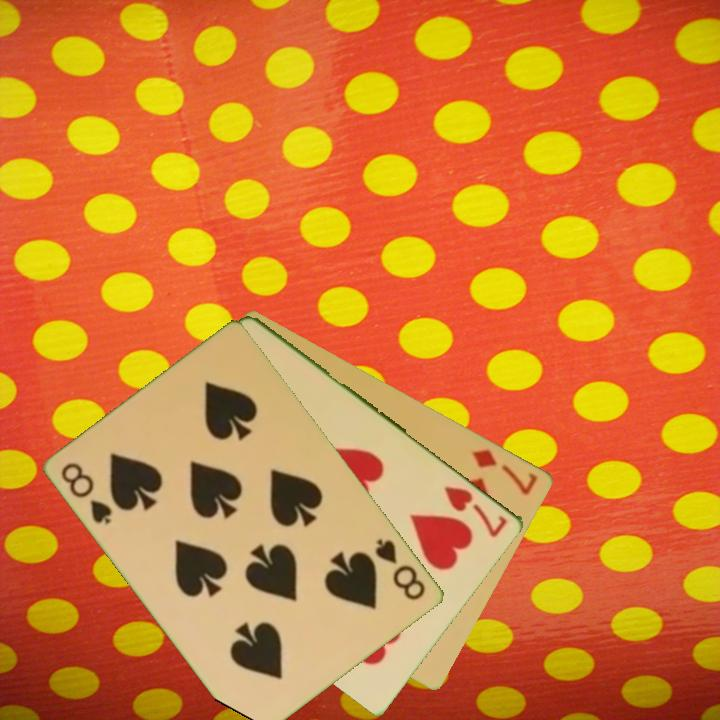7d: (468, 445, 541, 498)
7h: (441, 482, 511, 541)
8s: (57, 459, 116, 528), (372, 535, 429, 604)
